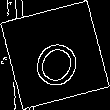O_NE: (23, 22, 87, 88)
